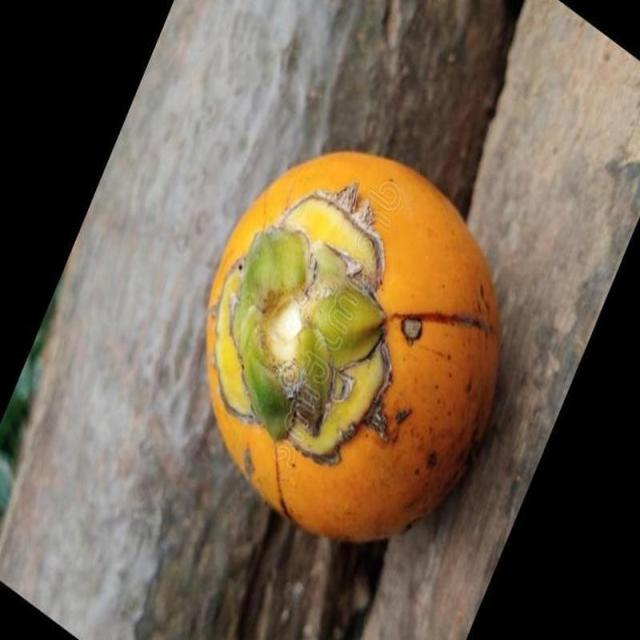good: (208, 161, 498, 544)
